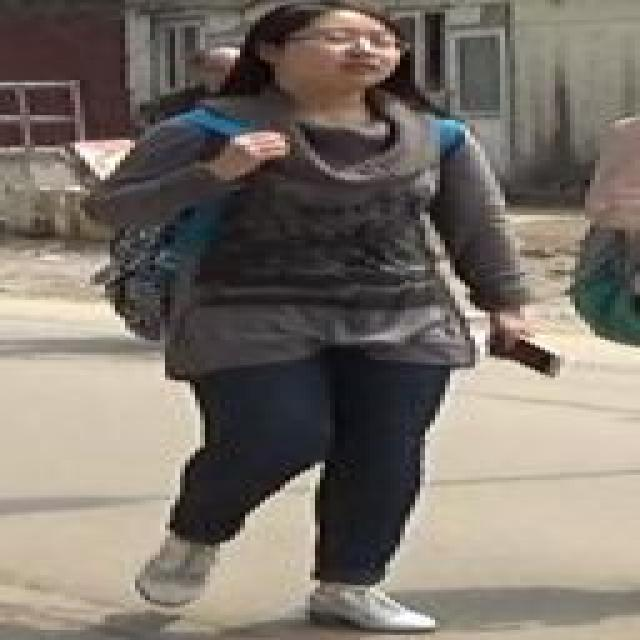adult: (89, 5, 465, 619)
